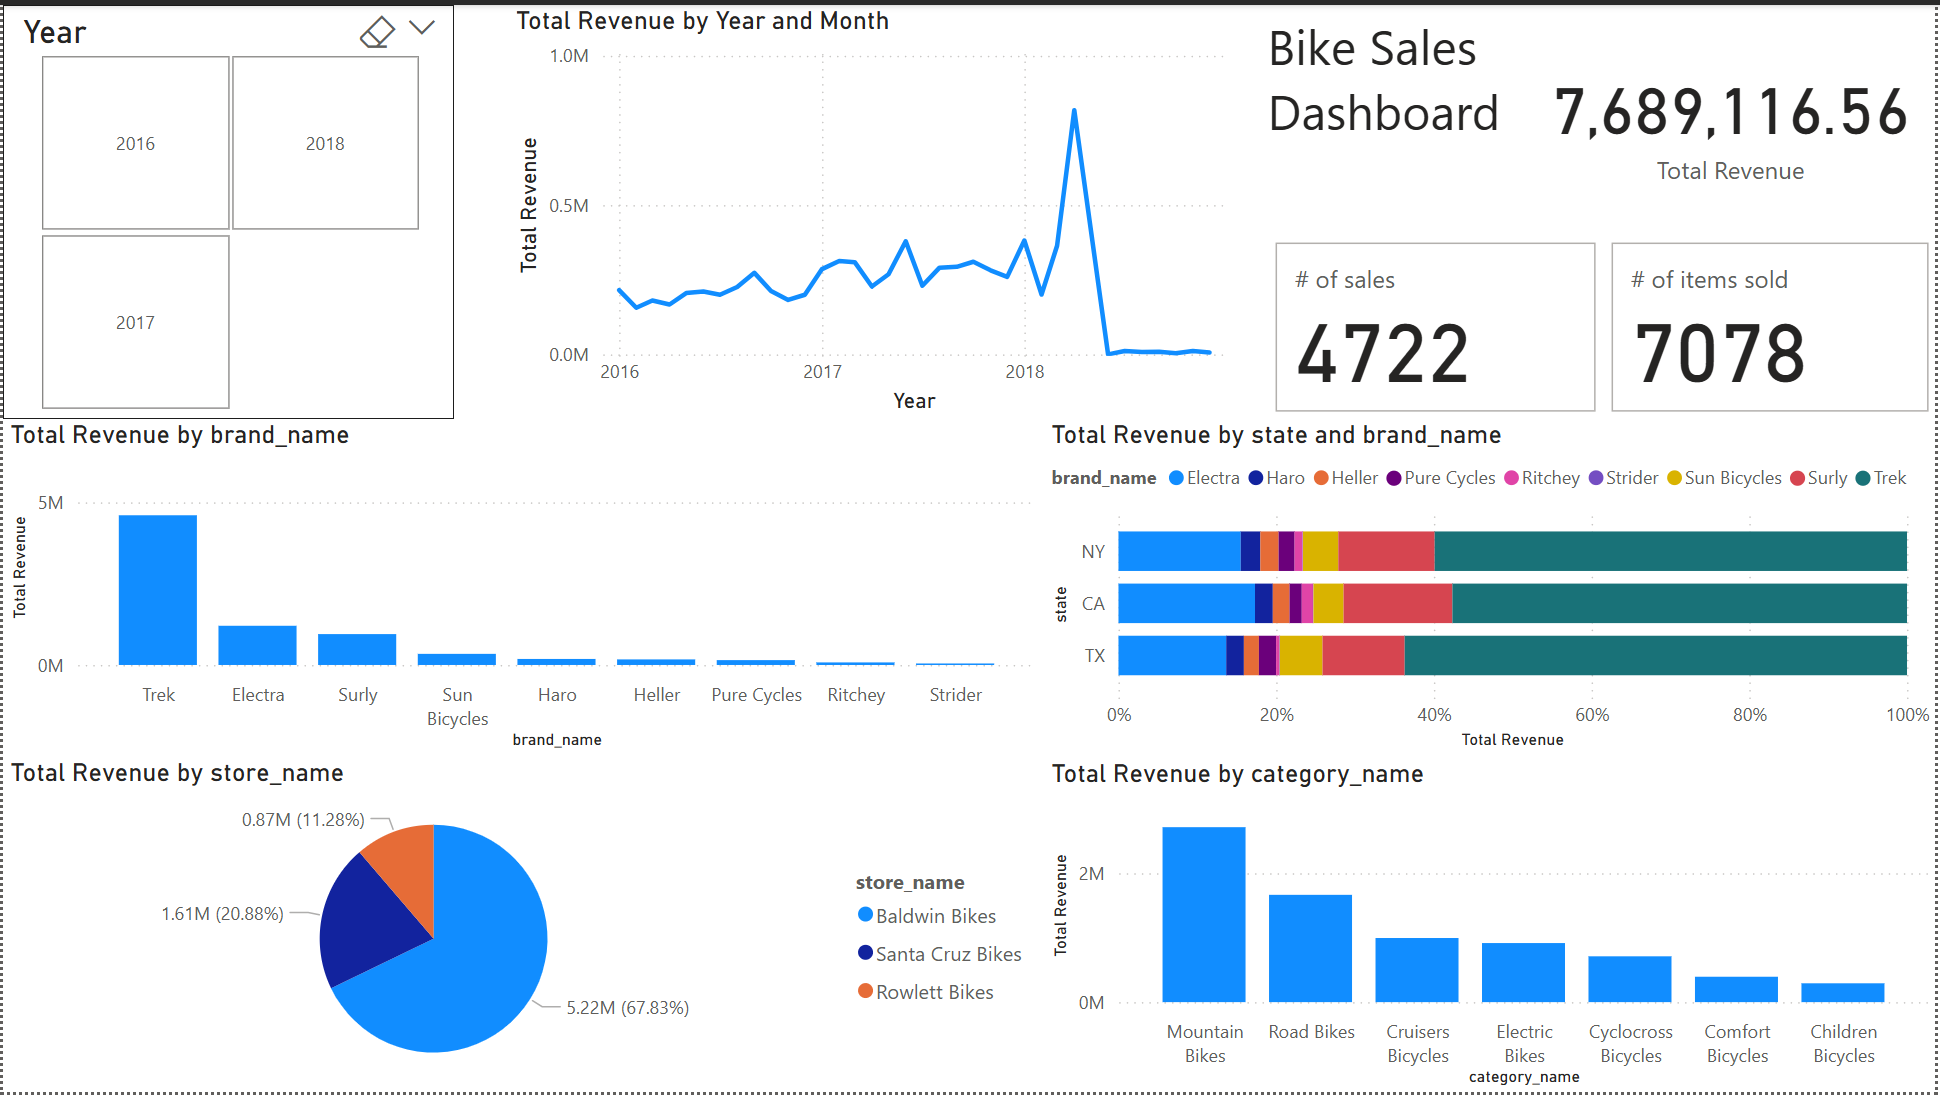

Layout of this report page (visuals, bound fields, positions):
{"tool":"powerbi","page":{"name":"Page 1","canvas":[1280,720],"ordinal":0},"visuals":[{"type":"card","fields":{"Values":["brands.Total Revenue"]},"box":[1007,0,273.4,152.2],"z":0},{"type":"slicer","fields":{"Values":["orders.order_date.Variation.Date Hierarchy.Year"]},"box":[0,0,299.4,274.6],"z":1},{"type":"clusteredColumnChart","fields":{"Category":["brands.brand_name"],"Y":["brands.Total Revenue"]},"box":[0,274.6,689.1,222.7],"z":2},{"type":"pieChart","fields":{"Category":["stores.store_name"],"Y":["brands.Total Revenue"]},"box":[0,497.3,689.1,221.4],"z":3},{"type":"cardVisual","fields":{"Data":["brands.# of items sold"]},"box":[1060.2,152.2,220.2,122.5],"z":4},{"type":"cardVisual","fields":{"Data":["brands.# of sales"]},"box":[837.5,152.2,222.7,122.5],"z":5},{"type":"lineChart","fields":{"Category":["orders.order_date.Variation.Date Hierarchy.Year","orders.order_date.Variation.Date Hierarchy.Month"],"Y":["brands.Total Revenue"]},"box":[335.3,0,482.5,274.6],"z":6},{"type":"clusteredColumnChart","fields":{"Category":["categories.category_name"],"Y":["brands.Total Revenue"]},"box":[689.1,498.6,591.3,221.4],"z":7},{"type":"hundredPercentStackedBarChart","fields":{"Category":["customers.state"],"Y":["brands.Total Revenue"],"Series":["brands.brand_name"]},"box":[689.1,274.6,591.3,222.7],"z":8},{"type":"textbox","box":[832.6,0,174.4,152.2],"z":9}]}

Visuals, with their boxes in screenshot pixels (x1, y1, x2, y2), scaled from the page's 1280x720 canvas onto the 1940x1097 screenshot:
card - brands.Total Revenue: {"x1": 1526, "y1": 0, "x2": 1939, "y2": 232}
slicer - orders.order_date.Variation.Date Hierarchy.Year: {"x1": 0, "y1": 0, "x2": 454, "y2": 418}
clusteredColumnChart - brands.brand_name x brands.Total Revenue: {"x1": 0, "y1": 418, "x2": 1044, "y2": 758}
pieChart - stores.store_name x brands.Total Revenue: {"x1": 0, "y1": 758, "x2": 1044, "y2": 1095}
cardVisual - brands.# of items sold: {"x1": 1607, "y1": 232, "x2": 1939, "y2": 419}
cardVisual - brands.# of sales: {"x1": 1269, "y1": 232, "x2": 1607, "y2": 419}
lineChart - orders.order_date.Variation.Date Hierarchy.Year x orders.order_date.Variation.Date Hierarchy.Month: {"x1": 508, "y1": 0, "x2": 1239, "y2": 418}
clusteredColumnChart - categories.category_name x brands.Total Revenue: {"x1": 1044, "y1": 760, "x2": 1939, "y2": 1096}
hundredPercentStackedBarChart - customers.state x brands.Total Revenue: {"x1": 1044, "y1": 418, "x2": 1939, "y2": 758}
textbox: {"x1": 1262, "y1": 0, "x2": 1526, "y2": 232}
